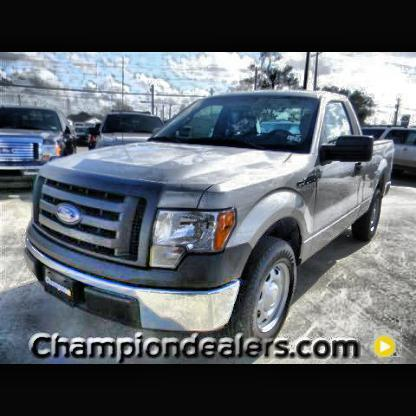Ford F-150 Regular Cab 2012: (24, 89, 396, 349)
